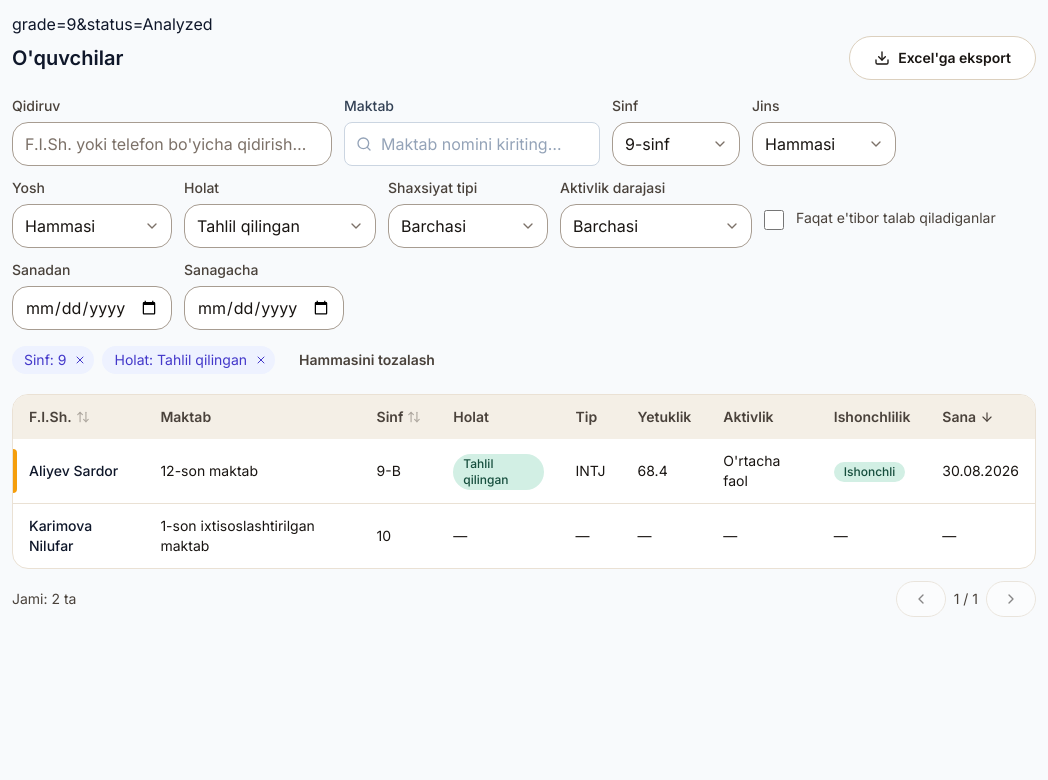
it: StudentsPage › faol filtr chipini olib tashlash URL'ni va so'rovni yangilaydi
This screenshot has width=1048, height=780.
Check: the text "Aliyev Sardor" is shown, box [29,461,118,481]
Check: the text "Sinf: 9" is shown, box [12,346,94,374]
Click the button named "Sinf: 9 filtrini olib tashlash" at (80, 360), box [70,350,90,370]
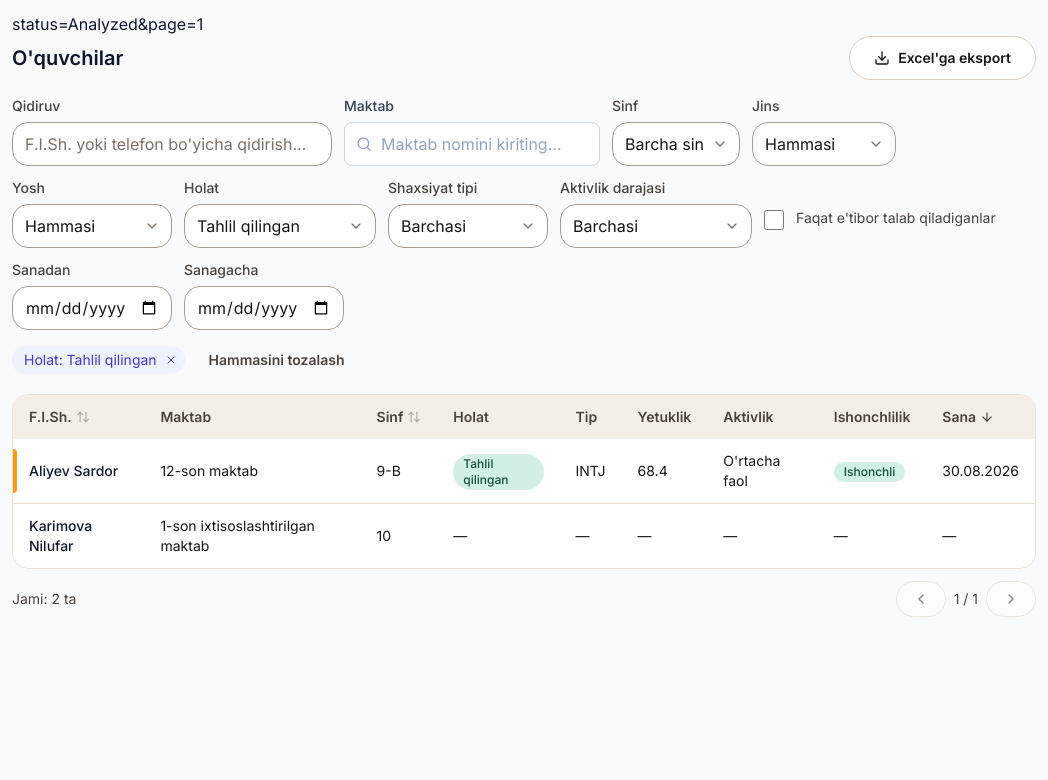
Check: the text with test id "url-probe" shows "status=Analyzed", box [12,14,203,34]
Check: the text with test id "url-probe" no longer shows "grade="
Check: the text "Sinf: 9" is gone
Click the button "Hammasini tozalash" at (276, 360), box [193,342,360,378]
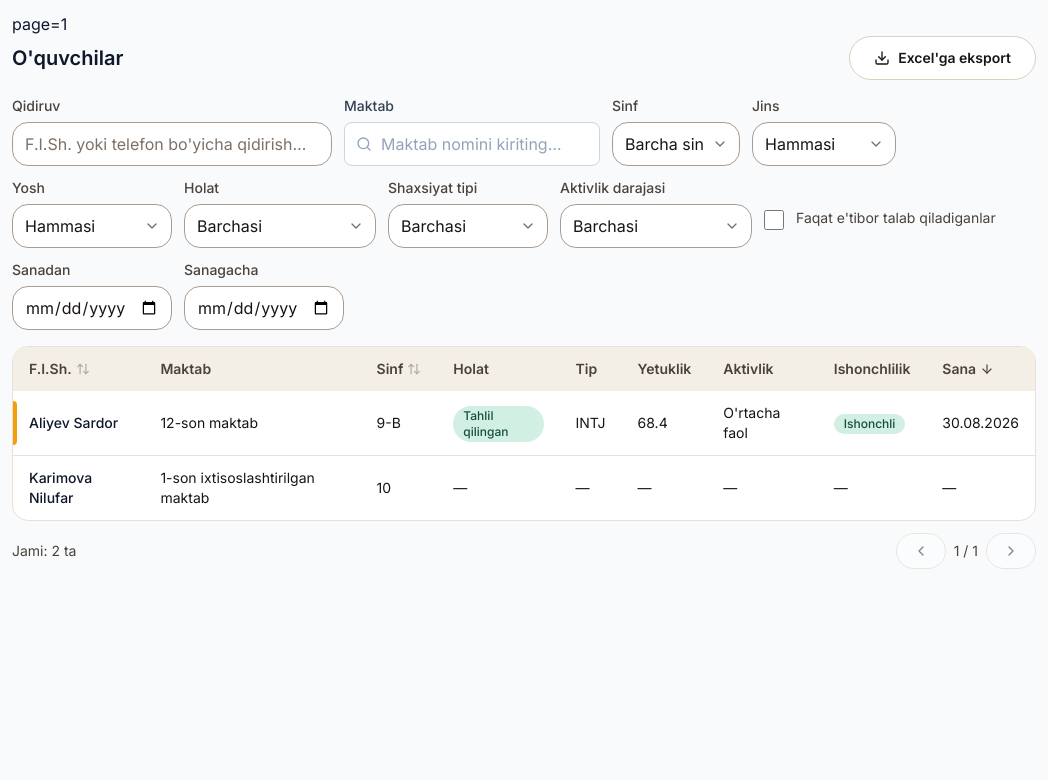
Check: the text "Holat: Tahlil qilingan" is gone
Check: the text with test id "url-probe" no longer shows "status="
